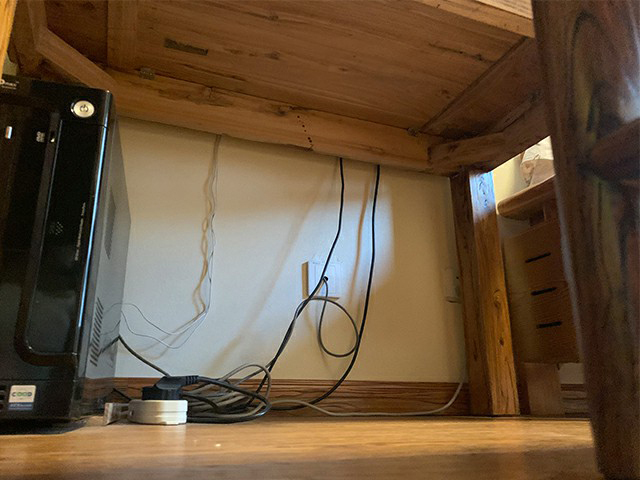wire: (115, 155, 468, 430)
